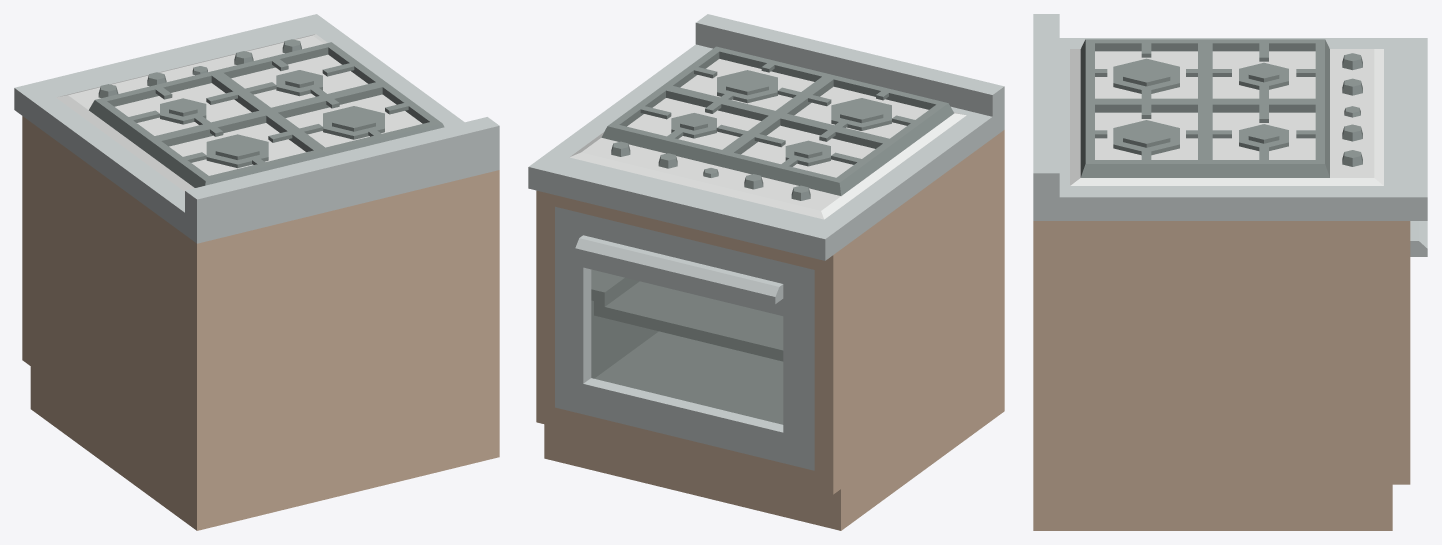
Rendered from kitchen_stove.glb.
3 renders of one model, left to right at view 1: azimuth 30°, elevation 25°; view 2: azimuth 150°, elevation 25°; view 3: azimuth 270°, elevation 25°, orthographic. The views are drawn at different scales.
Visible parts, largest first — view 1: kitchenStove(Clone); view 2: kitchenStove(Clone), door; view 3: kitchenStove(Clone), door.
Part boxes in pixels (bbox=[...]): kitchenStove(Clone): bbox=[14, 14, 499, 530]; kitchenStove(Clone): bbox=[528, 14, 1004, 530]; door: bbox=[555, 206, 814, 470]; kitchenStove(Clone): bbox=[1033, 14, 1427, 530]; door: bbox=[1410, 221, 1427, 256].
Size of the model in its own units: 0.903 by 0.945 by 0.945.
